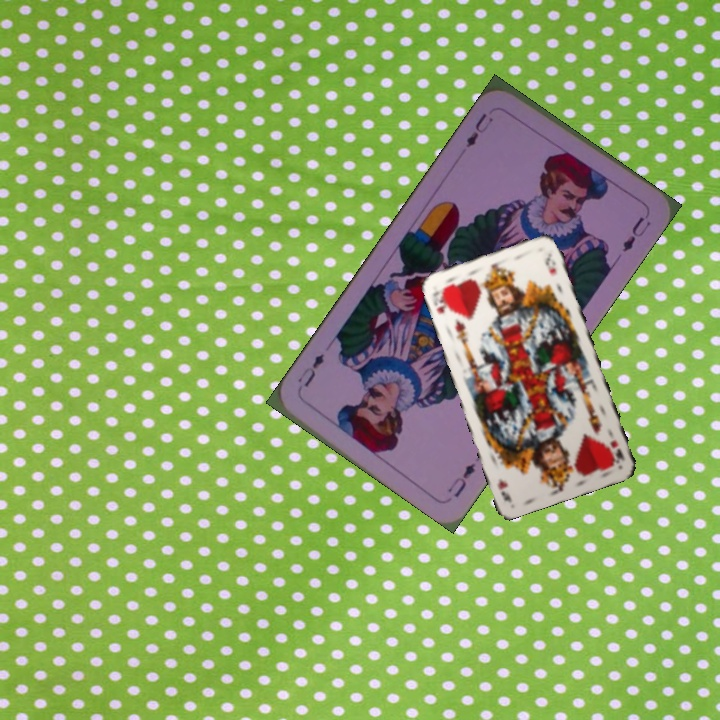EU: (443, 458, 479, 501), (461, 109, 496, 150)
HK: (428, 285, 453, 316), (606, 436, 627, 466)
